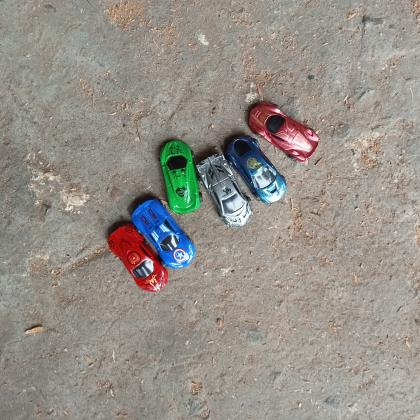Car: (130, 197, 196, 269), (247, 101, 320, 164), (225, 134, 288, 205), (107, 224, 169, 294), (197, 151, 253, 228), (158, 138, 201, 215)
